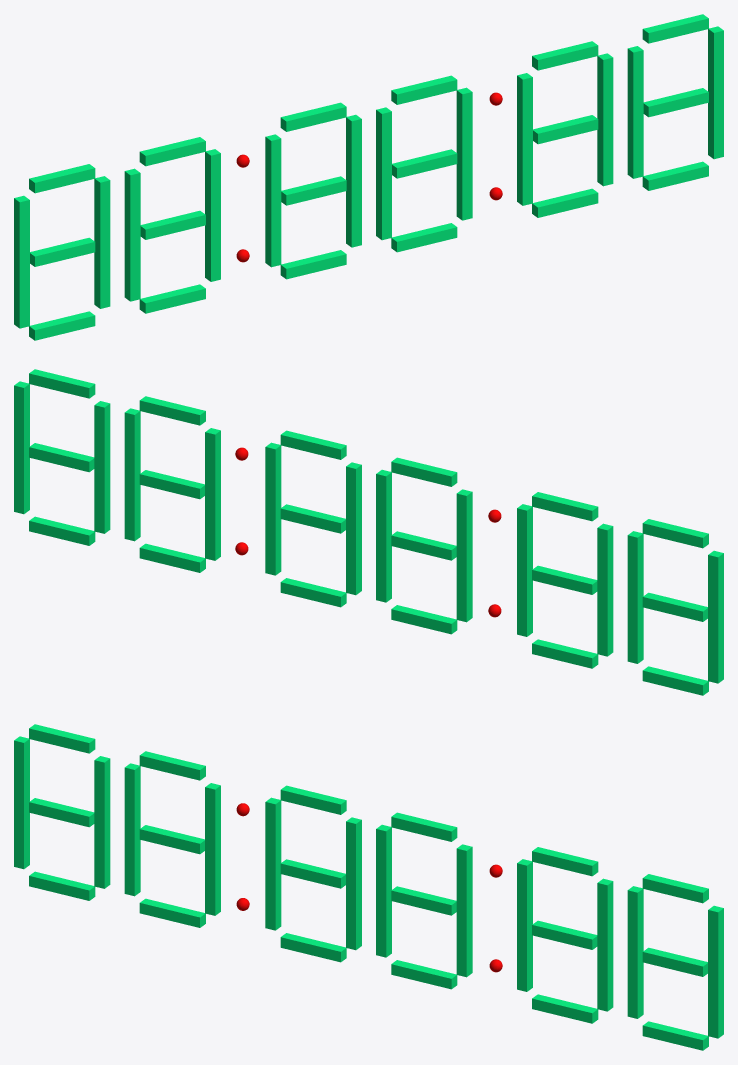
File: 七段數字結構HHMMSS.glb
3 views of the same model, one above another, from view 1: azimuth 30°, elevation 25°; view 2: azimuth 150°, elevation 25°; view 3: azimuth 330°, elevation 25° (orthographic).
Parts seen in each view (by area): view 1: digit_5_seg_F, digit_2_seg_F, digit_4_seg_B, digit_3_seg_B, digit_1_seg_F, digit_0_seg_B, digit_5_seg_A, digit_0_seg_D, digit_4_seg_D, digit_3_seg_A, digit_2_seg_D, digit_1_seg_A (+30 smaller); view 2: digit_5_seg_F, digit_2_seg_F, digit_4_seg_B, digit_3_seg_B, digit_1_seg_F, digit_0_seg_B, digit_5_seg_A, digit_0_seg_D, digit_4_seg_D, digit_3_seg_A, digit_2_seg_D, digit_1_seg_A (+30 smaller); view 3: digit_3_seg_B, digit_0_seg_B, digit_5_seg_F, digit_4_seg_B, digit_2_seg_F, digit_1_seg_F, digit_5_seg_D, digit_0_seg_A, digit_4_seg_A, digit_3_seg_D, digit_2_seg_A, digit_1_seg_D (+30 smaller).
Boxes of the visible parts, x1,y1,x2,y2 form: digit_5_seg_F: (627,46,643,115); digit_2_seg_F: (265,134,281,203); digit_4_seg_B: (597,53,613,122); digit_3_seg_B: (456,87,472,157); digit_1_seg_F: (124,168,140,238); digit_0_seg_B: (94,176,110,245); digit_5_seg_A: (642,14,708,43); digit_0_seg_D: (29,311,95,340); digit_4_seg_D: (532,188,598,217); digit_3_seg_A: (391,75,457,104); digit_2_seg_D: (280,250,346,279); digit_1_seg_A: (139,137,205,166); digit_5_seg_F: (94,401,110,470); digit_2_seg_F: (456,489,472,558); digit_4_seg_B: (124,408,140,477); digit_3_seg_B: (265,442,281,512); digit_1_seg_F: (597,523,613,593); digit_0_seg_B: (627,531,643,600); digit_5_seg_A: (29,369,95,398); digit_0_seg_D: (642,666,708,695); digit_4_seg_D: (139,543,205,572); digit_3_seg_A: (280,430,346,459); digit_2_seg_D: (391,605,457,634); digit_1_seg_A: (532,492,598,521); digit_3_seg_B: (456,844,472,913); digit_0_seg_B: (94,756,110,825); digit_5_seg_F: (627,886,643,955); digit_4_seg_B: (597,878,613,948); digit_2_seg_F: (265,797,281,867); digit_1_seg_F: (124,763,140,832); digit_5_seg_D: (642,1021,708,1050); digit_0_seg_A: (29,724,95,753); digit_4_seg_A: (532,847,598,876); digit_3_seg_D: (391,960,457,989); digit_2_seg_A: (280,785,346,814); digit_1_seg_D: (139,898,205,927).
Bounding box in the file's own units: 700 × 150 × 11.25.
